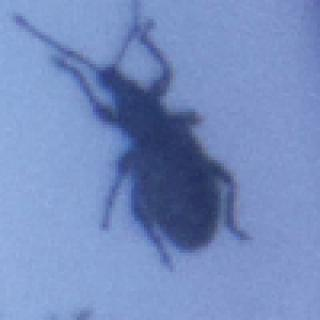bvw: (9, 0, 252, 272)
